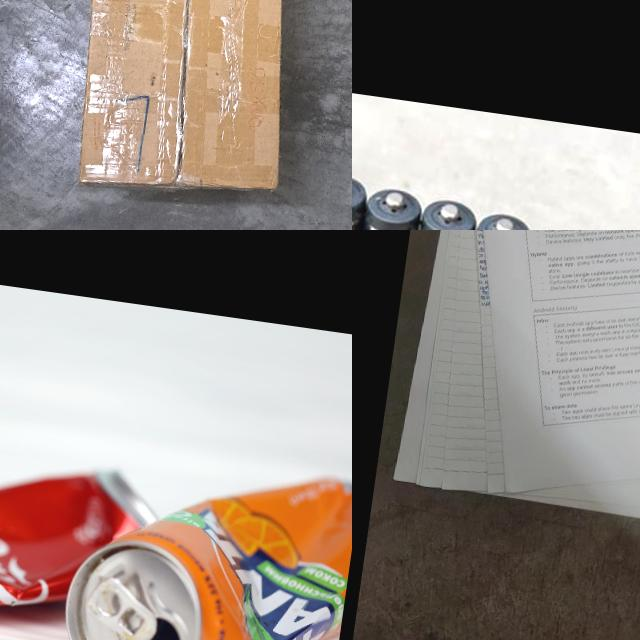aba de lata: (82, 575, 164, 640)
lata: (54, 442, 352, 640), (0, 422, 167, 640)
papel: (399, 230, 640, 531)
papelão: (54, 0, 325, 215)
